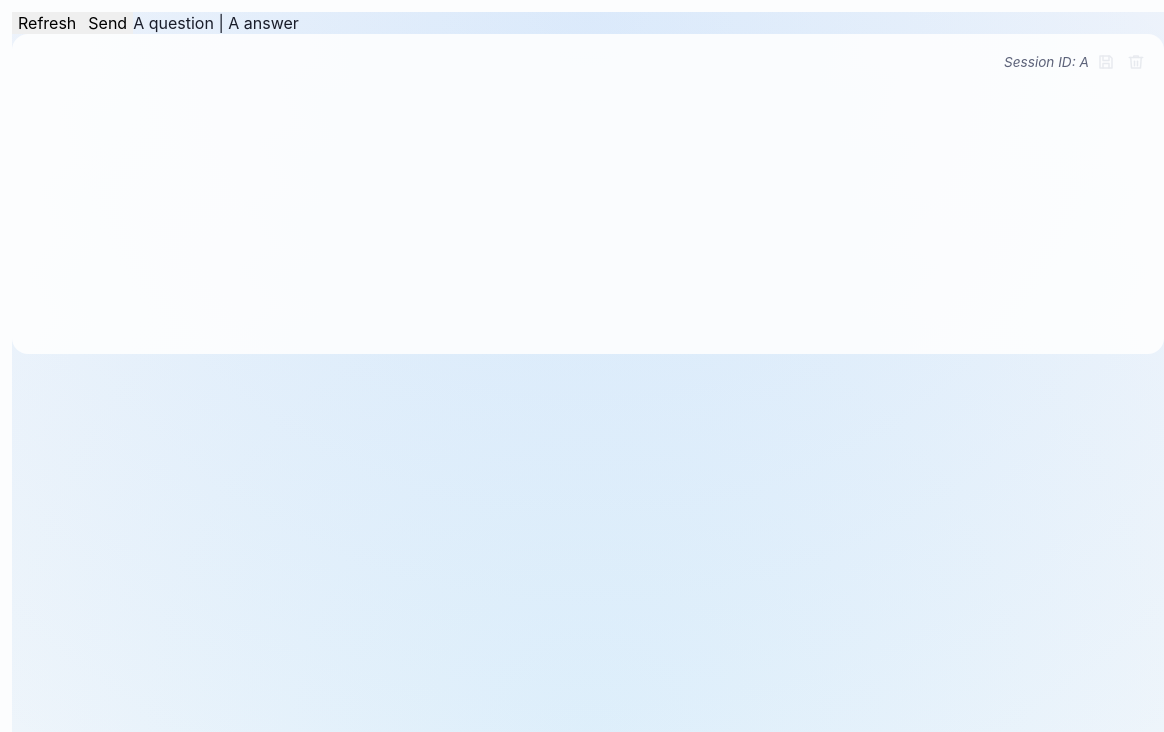
useChatSession › retains incremental history failure and transcript after a successful idle probe
expect the text named "Transcript" reads "A question | A answer": met, box [133, 13, 299, 33]
Step 1. Click the button "Send" → point(108, 23), box [82, 12, 133, 34]
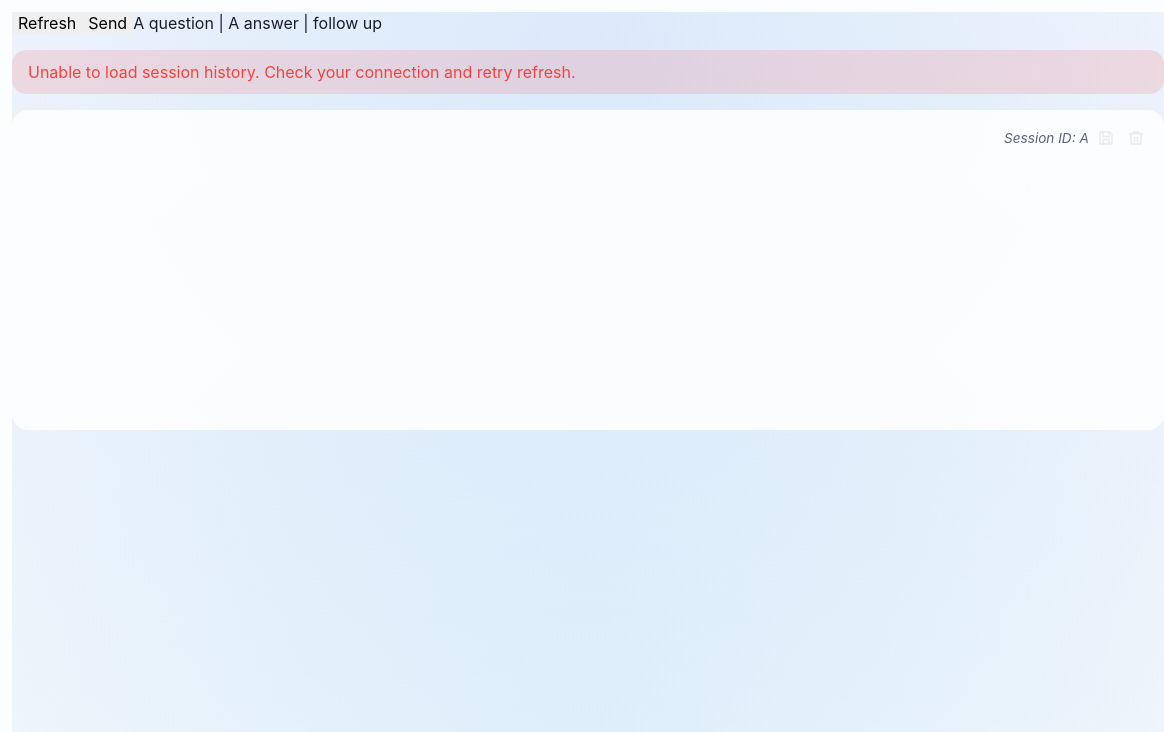
expect the message reads "Unable to load session history. Check your connection and retry refresh.": met, box [28, 62, 576, 82]
expect the text named "Transcript" reads "A question | A answer | follow up": met, box [133, 13, 382, 33]
Step 2. Click the button "Send" → point(108, 23), box [82, 12, 133, 34]
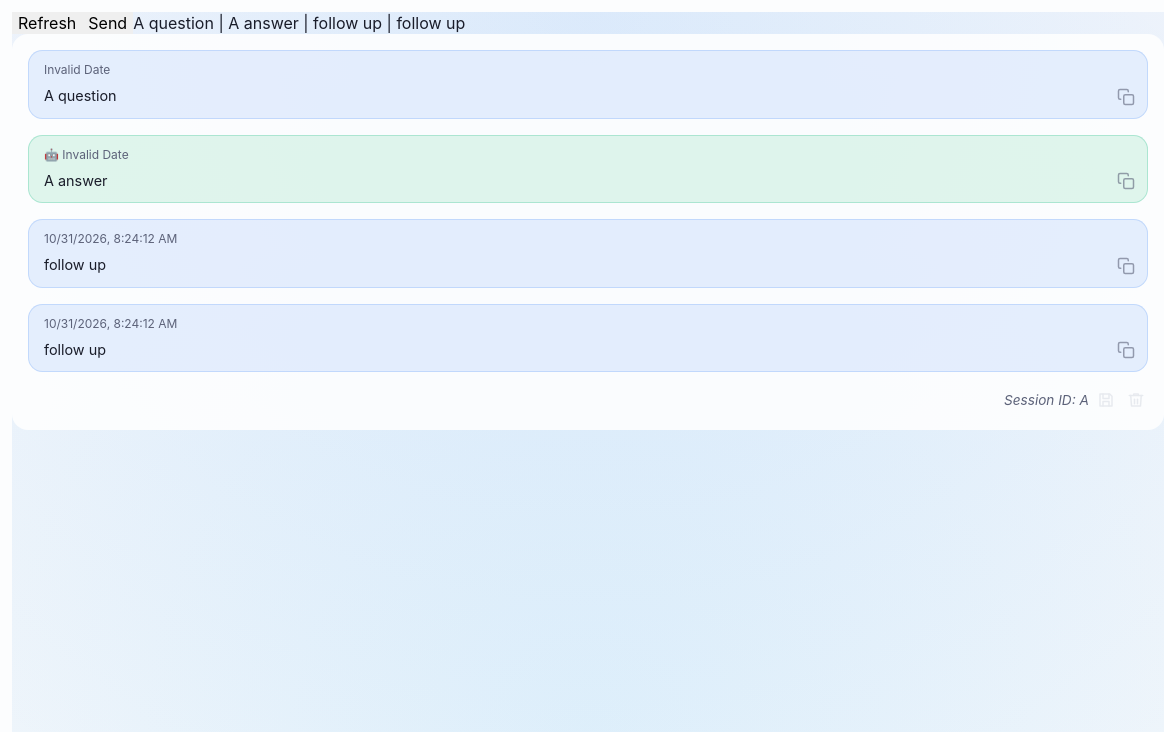
expect the text named "Transcript" shows "A question | A answer | follow up": met, box [133, 13, 465, 33]
expect the message "Unable to load session history. Check your connection and retry refresh." is gone: met
